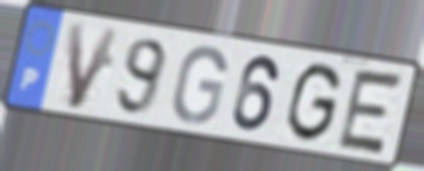6: (230, 52, 281, 135)
9: (113, 35, 171, 117)
E: (333, 65, 408, 158)
G: (283, 61, 344, 146), (169, 44, 230, 127)
V: (65, 20, 123, 112)
